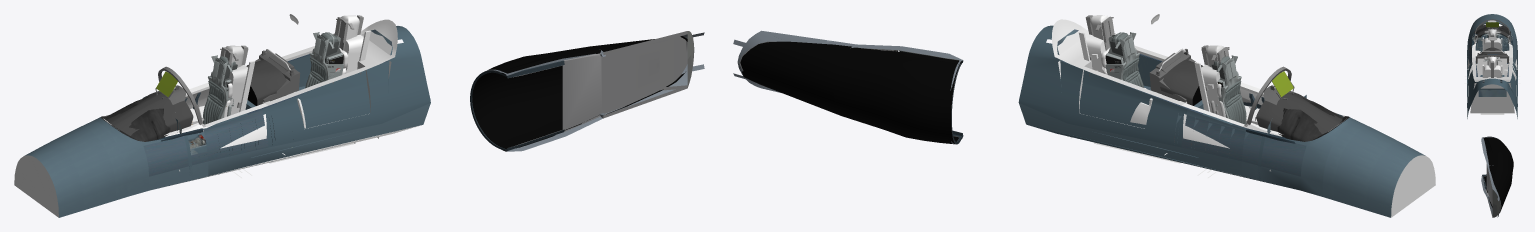
Rendered from f15-cockpit.glb.
3 renders of one model, left to right at view 1: azimuth 30°, elevation 25°; view 2: azimuth 150°, elevation 25°; view 3: azimuth 270°, elevation 25°, orthographic. The views are drawn at different scales.
Visible parts, largest first — view 1: InsideStructure, Canopy, CanopyGlassInside, CanopyGlass, InteriorBucket.002, GlareShield.001, ForwardBulkhead, InteriorBucket.001, GlareShield.002, GlareShield, Interior, aces2 (+9 smaller); view 2: InsideStructure, CanopyGlass, Canopy, InteriorBucket.002, GlareShield.001, ForwardBulkhead, InteriorBucket.001, GlareShield.002, GlareShield, aces2, Interior, Seat (+8 smaller); view 3: InsideStructure, CanopyGlass, Interior, Canopy, InteriorBucket.002, _Charcoa.001, f15c-avionics-bay, _Gray6_1, main-instrument-panel, InteriorBucket.001, Seat, group.002 (+13 smaller).
Boxes of the visible parts, x1,y1,x2,y2 form: InsideStructure: (24, 26, 430, 217); Canopy: (470, 31, 704, 151); CanopyGlassInside: (472, 36, 687, 151); CanopyGlass: (480, 38, 687, 150); InteriorBucket.002: (262, 19, 397, 163); GlareShield.001: (107, 91, 193, 135); ForwardBulkhead: (14, 155, 58, 217); InteriorBucket.001: (103, 82, 267, 171); GlareShield.002: (106, 96, 170, 141); GlareShield: (246, 60, 286, 105); Interior: (255, 14, 391, 138); aces2: (309, 32, 343, 80); InsideStructure: (1018, 25, 1425, 217); CanopyGlass: (740, 41, 962, 144); Canopy: (733, 30, 963, 144); InteriorBucket.002: (1051, 19, 1187, 163); GlareShield.001: (1256, 91, 1342, 134); ForwardBulkhead: (1391, 155, 1435, 217); InteriorBucket.001: (1182, 82, 1346, 171); GlareShield.002: (1277, 97, 1343, 141); GlareShield: (1160, 60, 1202, 105); aces2: (1105, 32, 1139, 80); Interior: (1058, 14, 1196, 138); Seat: (1201, 45, 1257, 124); InsideStructure: (1467, 14, 1517, 118); CanopyGlass: (1483, 136, 1513, 212); Interior: (1470, 37, 1514, 113); Canopy: (1481, 136, 1501, 217); InteriorBucket.002: (1468, 57, 1516, 114); _Charcoa.001: (1468, 57, 1515, 80); f15c-avionics-bay: (1475, 56, 1509, 96); _Gray6_1: (1484, 56, 1501, 77); main-instrument-panel: (1472, 34, 1512, 50); InteriorBucket.001: (1467, 24, 1517, 69); Seat: (1484, 29, 1501, 50); group.002: (1464, 32, 1520, 83).
Size of the model in its own units: 9.71 by 2.48 by 1.4.
Materials: 96 (79 with a texture image).
